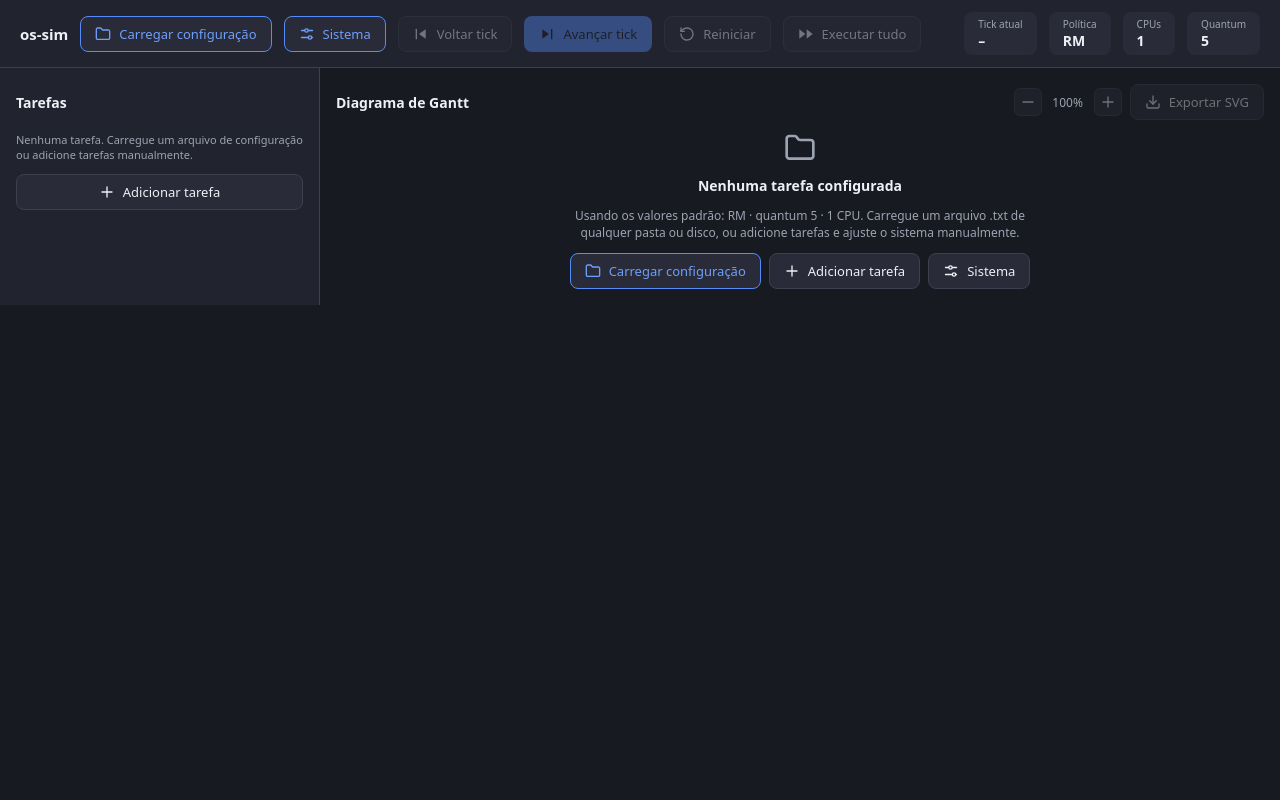
Scenario: App preparation without a file (#36 part 2) › shows the core reason for an invalid field and keeps what was typed
Step 1. Click the 1st button "Adicionar tarefa" → (160, 192), box [16, 174, 303, 210]
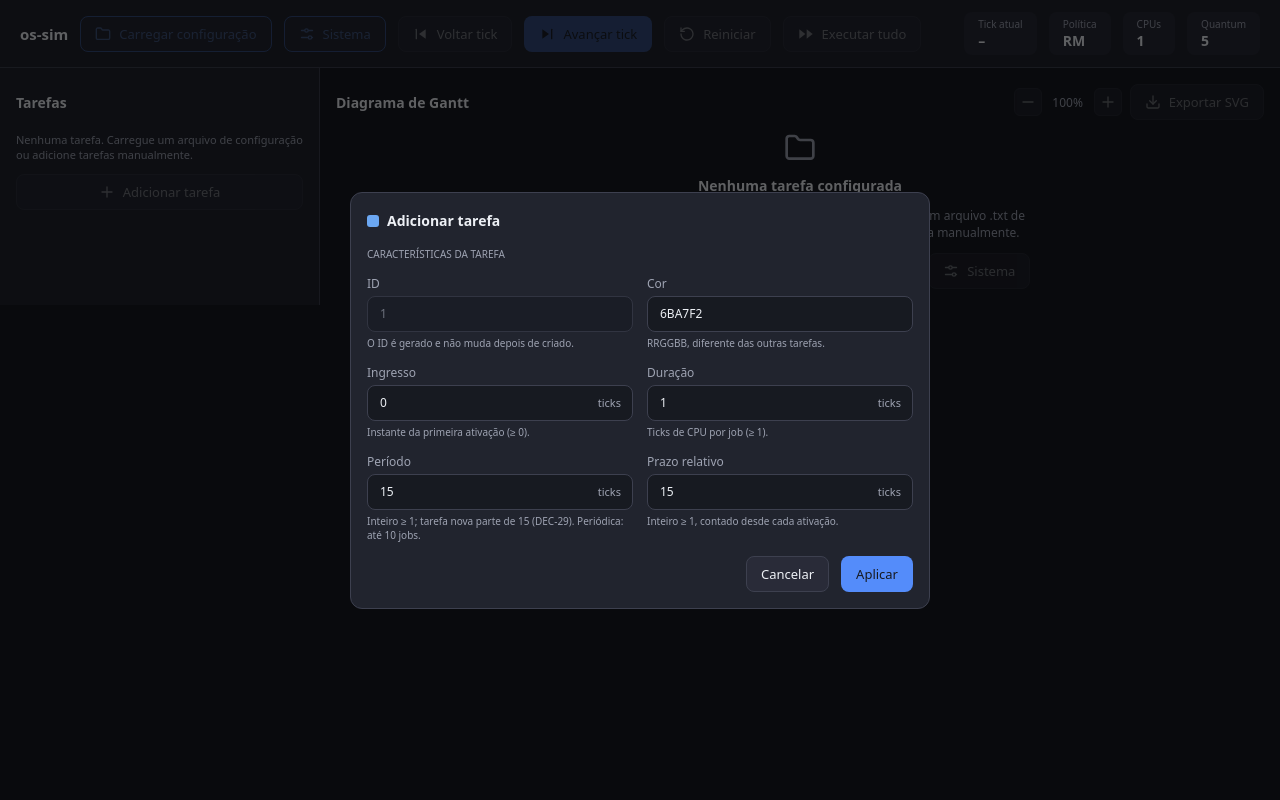
Step 2. Replace the text in the field labelled "Duração" with "0" → (780, 402), box [647, 384, 913, 420]
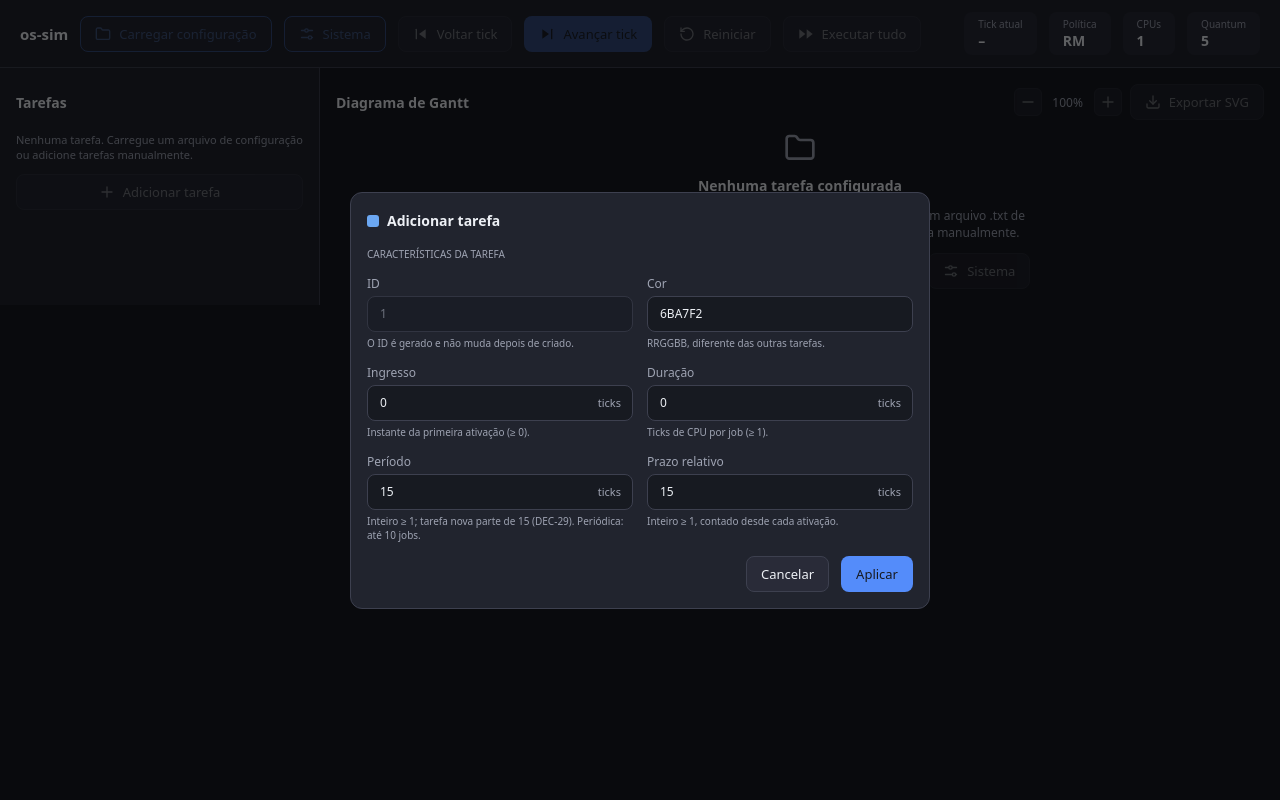
Step 3. Click the button "Aplicar" → (877, 574), box [841, 556, 913, 592]
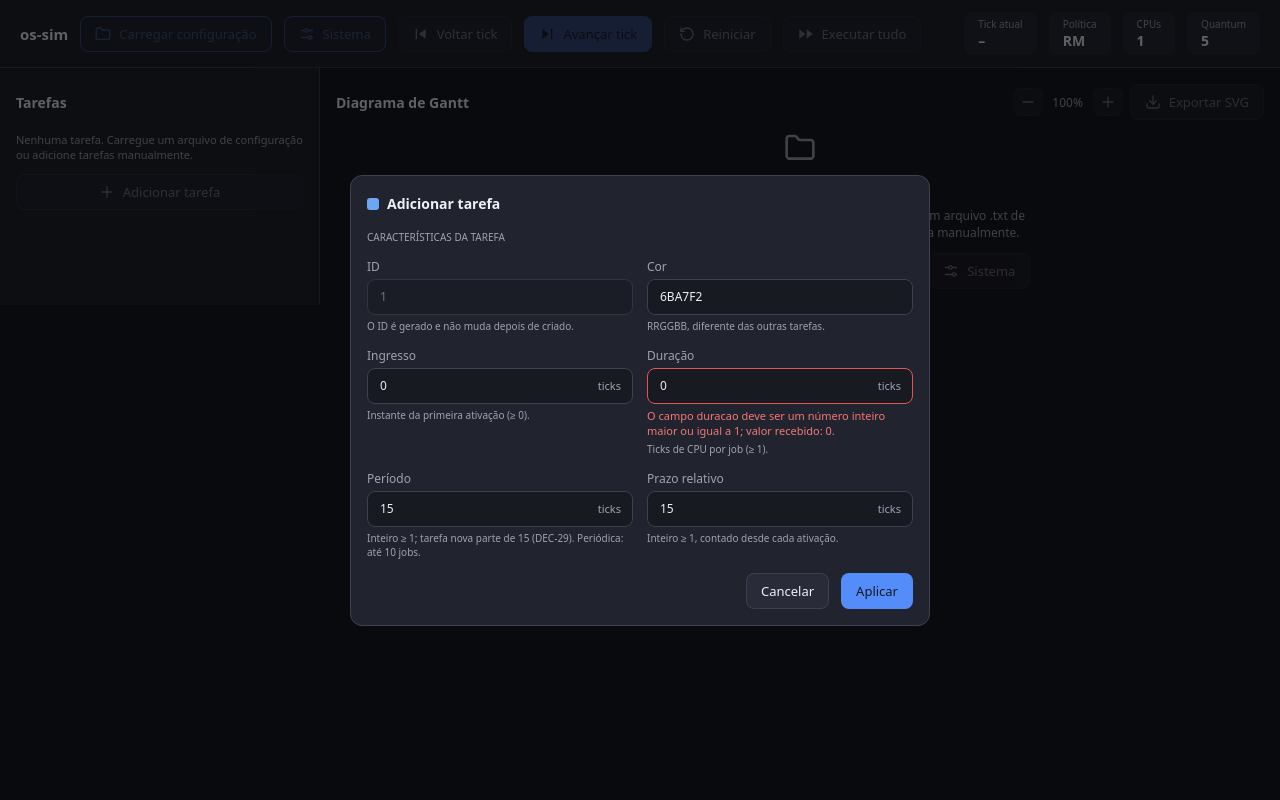
Result: the dialog shows "maior ou igual a 1" at [647, 408, 885, 438]
